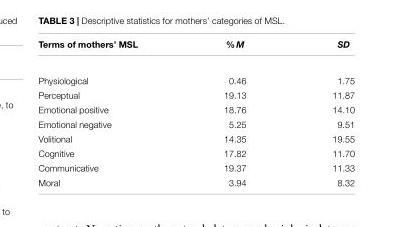table: (37, 37, 354, 187)
table column: (37, 37, 179, 187), (179, 37, 288, 187), (288, 37, 354, 187)
table column header: (37, 37, 354, 61)
table row: (37, 61, 354, 87), (37, 37, 354, 61), (37, 101, 354, 116), (37, 130, 354, 145), (37, 159, 354, 174), (37, 87, 354, 101), (37, 116, 354, 130), (37, 145, 354, 159), (37, 174, 354, 187)
